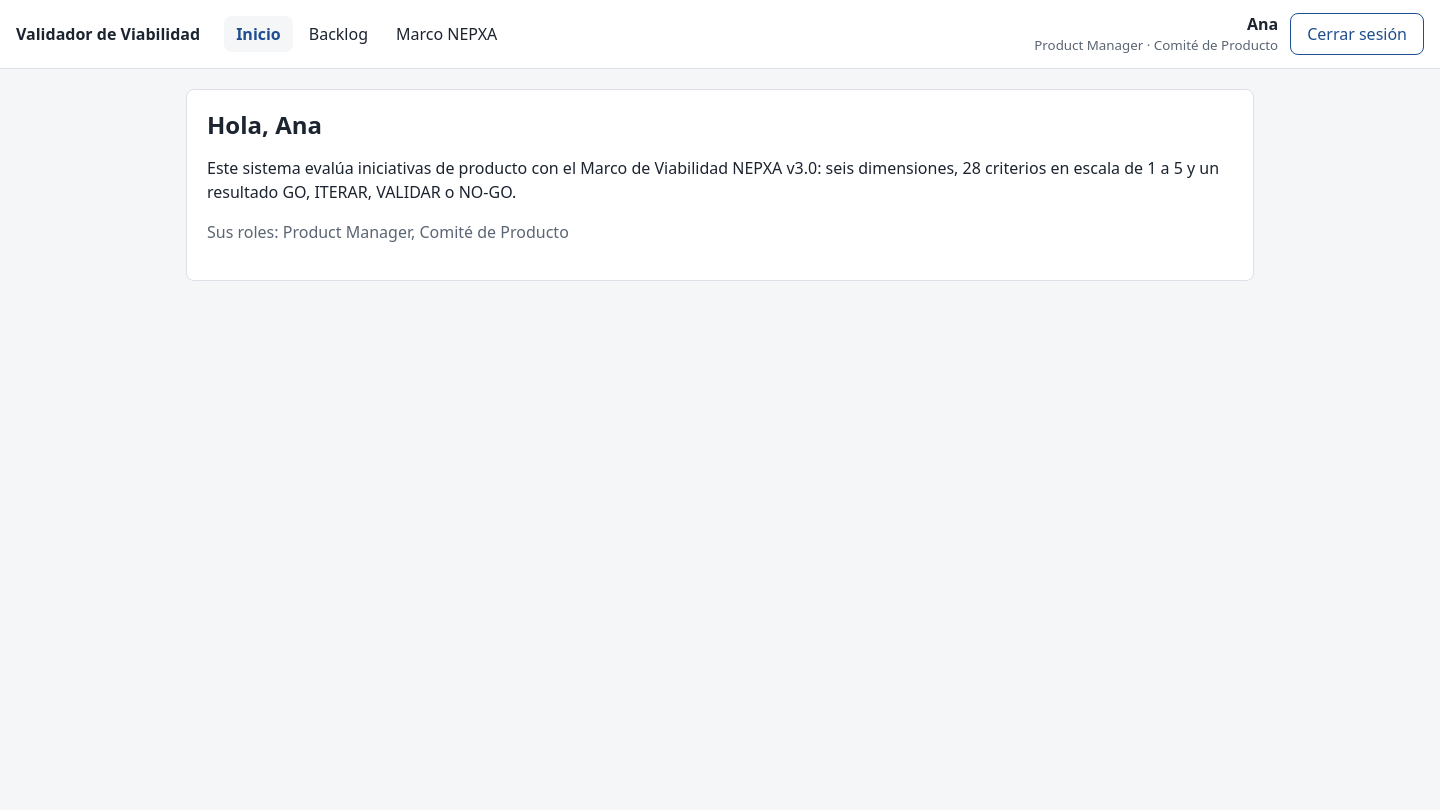
cerrar sesión vuelve al formulario de ingreso
What coordinates should you click on to do the following:
click the button "Cerrar sesión"
I would click on:
 (1357, 34)
Its box is x1=1290 y1=13 x2=1424 y2=55.
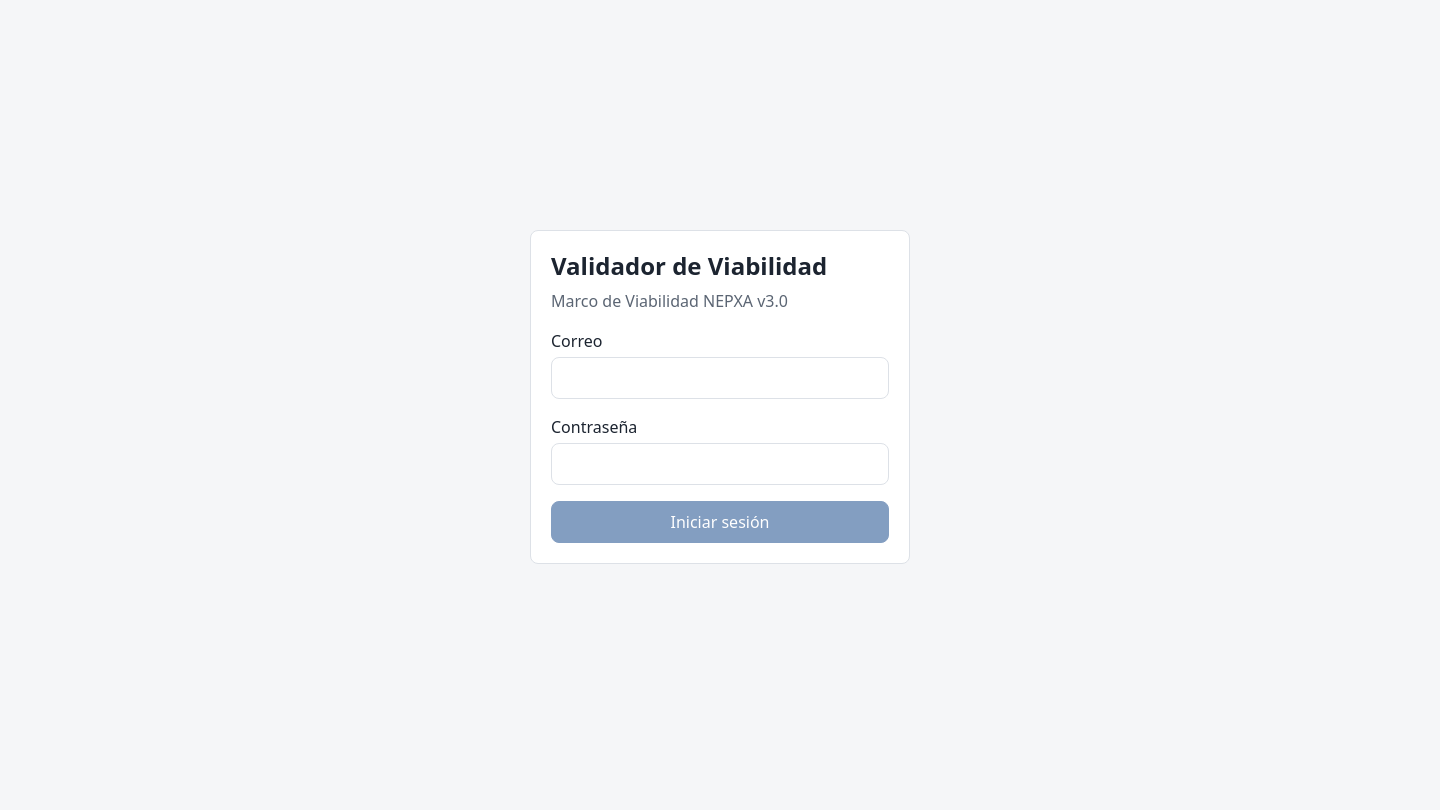
Expected: the button "Iniciar sesión" is shown, x1=551 y1=501 x2=889 y2=543
